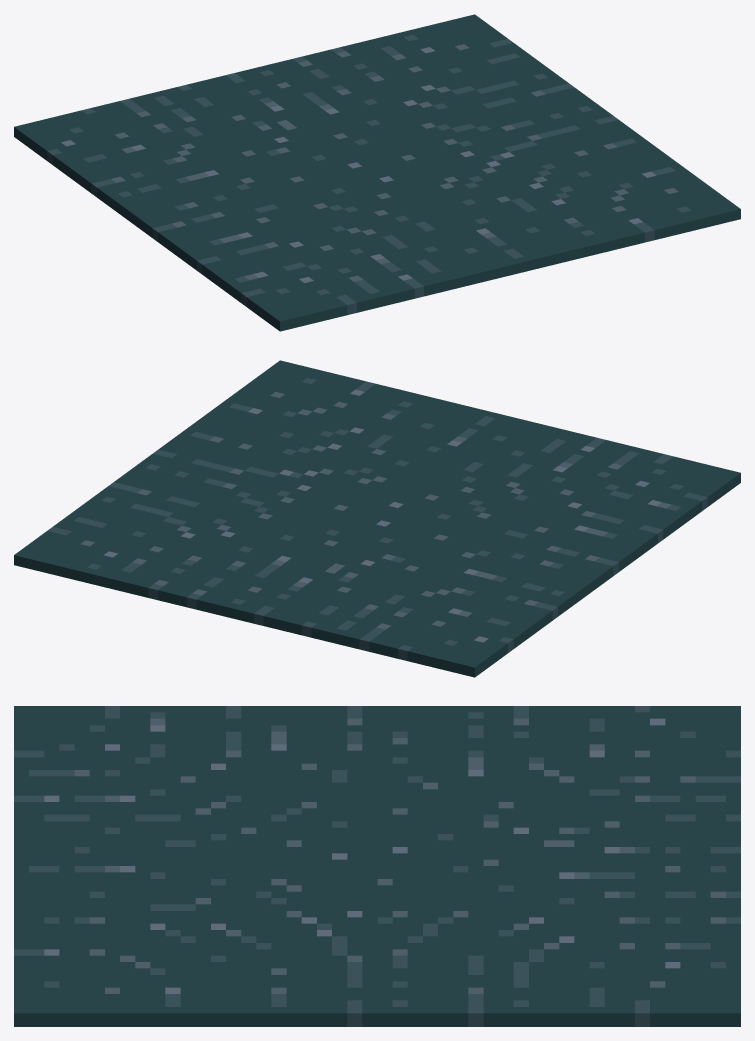
The model's file is tile-0-water.obj.
3 views of the same model, one above another, from view 1: azimuth 30°, elevation 25°; view 2: azimuth 150°, elevation 25°; view 3: azimuth 270°, elevation 25° (orthographic). The views are drawn at different scales.
Parts seen in each view (by area): view 1: water; view 2: water; view 3: water.
Part boxes in pixels (x1,y1,x2,y2): water: (14,14,740,331); water: (14,360,740,677); water: (14,706,740,1026).
Size of the model in its own units: 4.8 by 0.1 by 4.8.
1 material, 1 textured.
